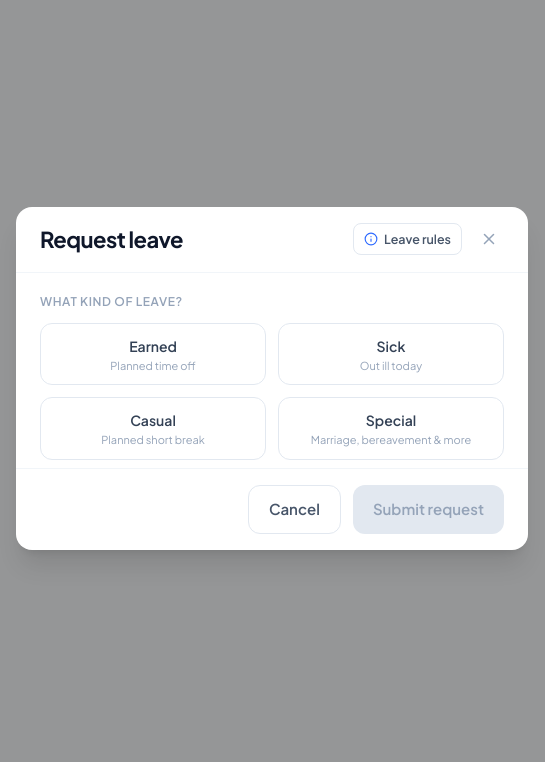
Test case: Sick › shows a duration stepper, since sick leave may span several days
Click the button "Sick Out ill today": {"x": 391, "y": 354} [278,322,504,385]
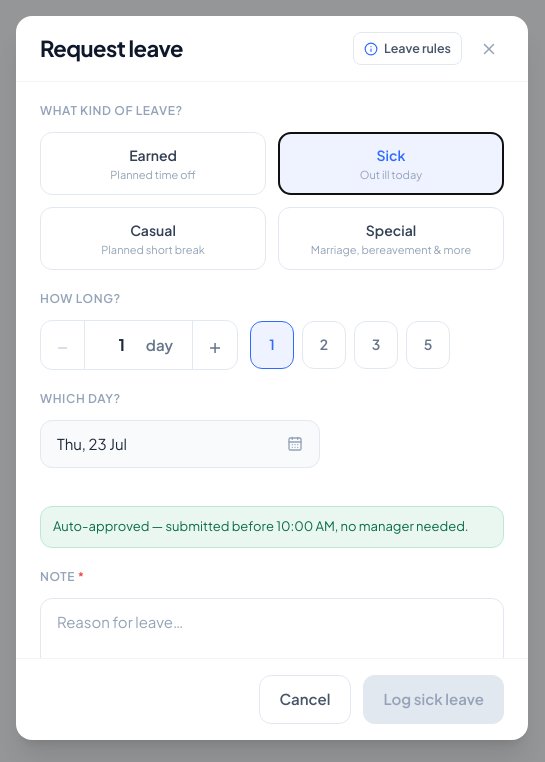
Check: the text "How long?" is shown, box [40,291,121,306]
